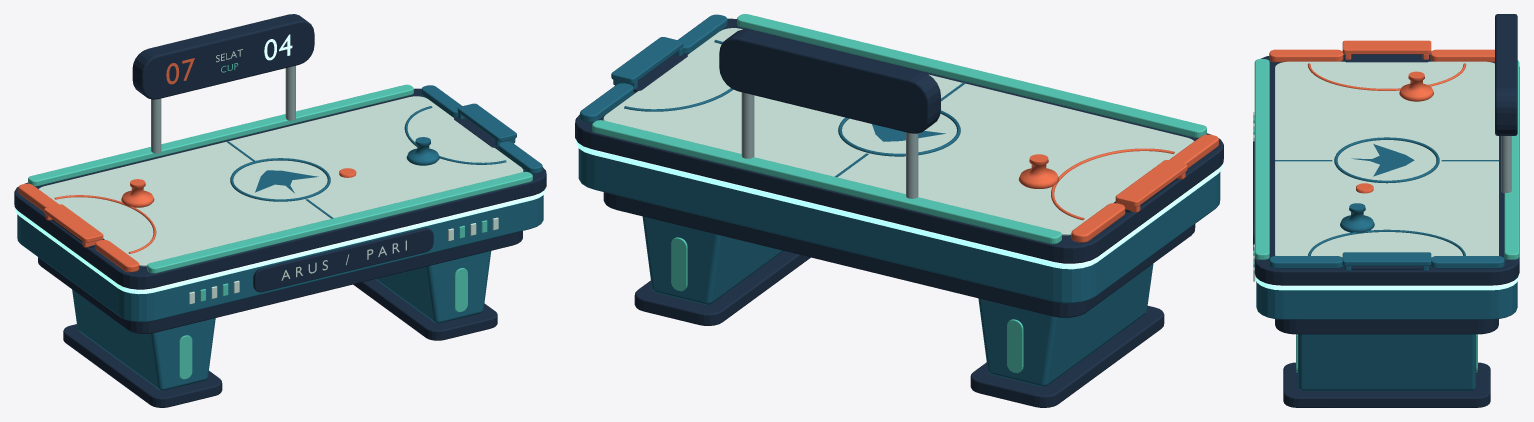
The picture shows the model from 3 angles, left to right: view 1: azimuth 30°, elevation 25°; view 2: azimuth 150°, elevation 25°; view 3: azimuth 270°, elevation 25°; orthographic projection. The views are drawn at different scales.
Visible parts, largest first — view 1: Arus Pari - Rink, Arus Pari - Structure, Arus Pari - Graphics, Arus Pari - Playing pieces; view 2: Arus Pari - Structure, Arus Pari - Rink, Arus Pari - Graphics, Arus Pari - Playing pieces; view 3: Arus Pari - Rink, Arus Pari - Structure, Arus Pari - Graphics, Arus Pari - Playing pieces.
Part boxes in pixels (x1=…): Arus Pari - Rink: x1=18, y1=84, x2=542, y2=273; Arus Pari - Structure: x1=14, y1=65, x2=546, y2=407; Arus Pari - Graphics: x1=132, y1=14, x2=498, y2=379; Arus Pari - Playing pieces: x1=121, y1=137, x2=439, y2=207; Arus Pari - Structure: x1=575, y1=18, x2=1223, y2=407; Arus Pari - Rink: x1=580, y1=14, x2=1218, y2=244; Arus Pari - Graphics: x1=671, y1=29, x2=1023, y2=373; Arus Pari - Playing pieces: x1=1018, y1=154, x2=1058, y2=188; Arus Pari - Rink: x1=1254, y1=40, x2=1519, y2=271; Arus Pari - Structure: x1=1254, y1=54, x2=1519, y2=407; Arus Pari - Graphics: x1=1253, y1=14, x2=1517, y2=372; Arus Pari - Playing pieces: x1=1340, y1=71, x2=1433, y2=232.
Size of the model in its own units: 2.83 by 1.6 by 1.44.
